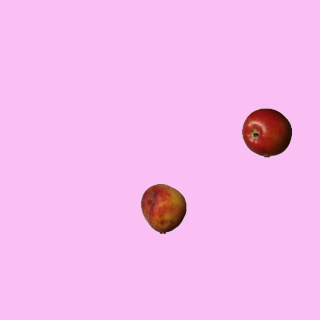Apple Braeburn: (241, 107, 291, 157)
Peach: (138, 183, 188, 233)
